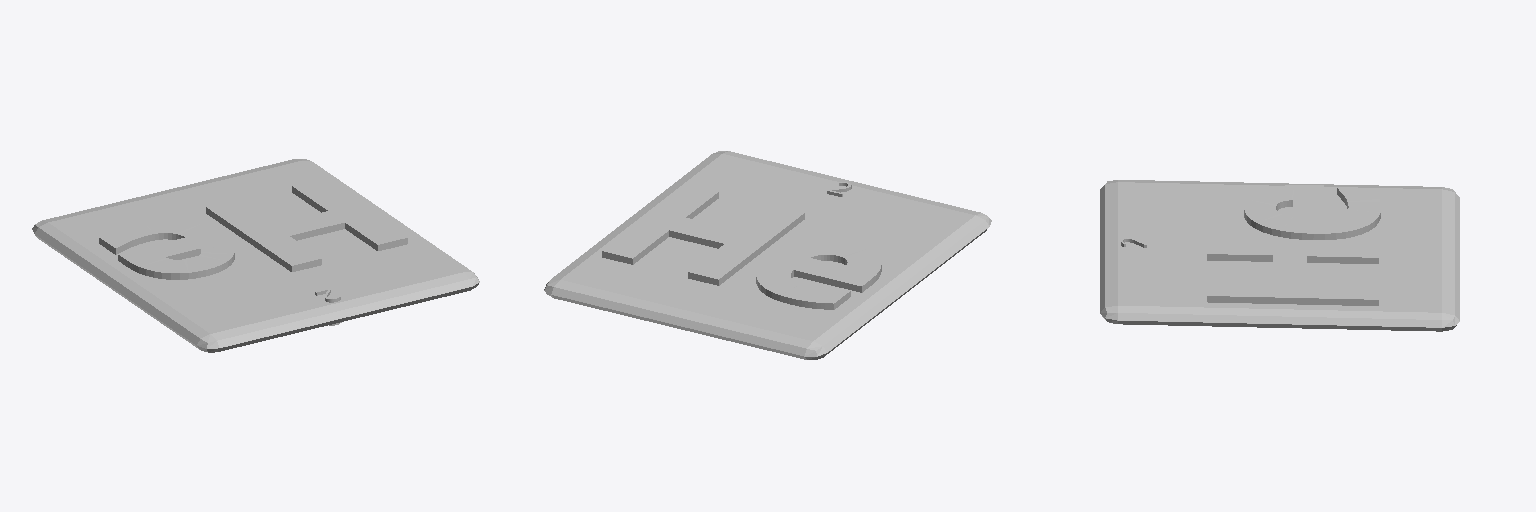
The picture shows the model from 3 angles: view 1: azimuth 30°, elevation 25°; view 2: azimuth 150°, elevation 25°; view 3: azimuth 270°, elevation 25°; orthographic projection.
Parts seen in each view (by area): view 1: 088_Box_3, 086_He_-_H, 087_He_-_e; view 2: 088_Box_3, 086_He_-_H, 087_He_-_e; view 3: 088_Box_3, 086_He_-_H, 087_He_-_e.
Part boxes in pixels (left/top/right/bottom): 088_Box_3: left=32, top=159, right=479, bottom=352; 086_He_-_H: left=206, top=179, right=407, bottom=271; 087_He_-_e: left=99, top=219, right=234, bottom=279; 088_Box_3: left=544, top=151, right=991, bottom=359; 086_He_-_H: left=602, top=185, right=804, bottom=285; 087_He_-_e: left=756, top=240, right=881, bottom=309; 088_Box_3: left=1100, top=180, right=1459, bottom=331; 086_He_-_H: left=1207, top=239, right=1378, bottom=305; 087_He_-_e: left=1244, top=185, right=1380, bottom=239.
Size of the model in its own units: 9 by 1.02 by 10.